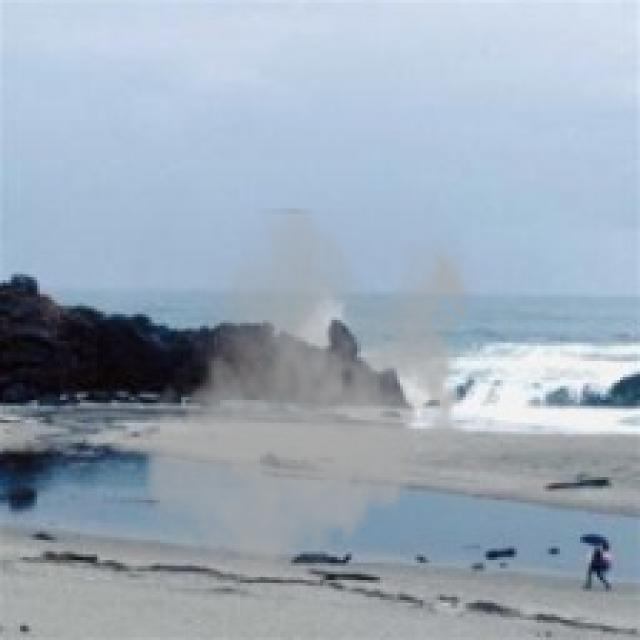smoke: (137, 208, 480, 592)
